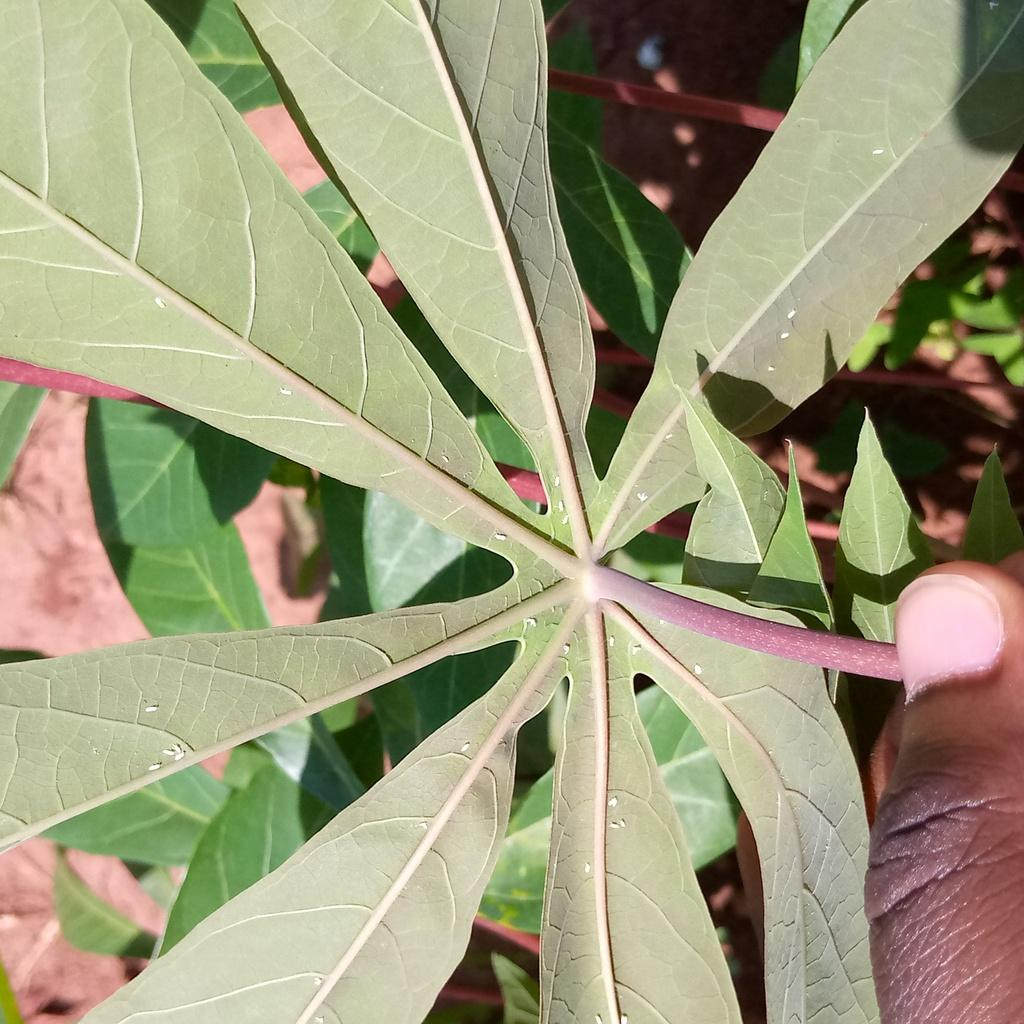adult: (154, 297, 166, 309), (144, 704, 159, 713), (494, 532, 507, 542), (460, 742, 471, 753), (525, 617, 536, 628), (148, 763, 162, 771), (607, 797, 618, 807), (631, 645, 642, 655), (693, 664, 703, 675), (556, 500, 565, 512), (175, 751, 185, 761), (313, 975, 322, 986), (417, 821, 428, 830), (637, 492, 648, 501), (162, 749, 176, 756), (280, 388, 292, 396), (787, 309, 796, 319), (561, 514, 569, 525), (608, 635, 615, 647), (584, 862, 591, 874), (441, 454, 450, 463), (780, 332, 790, 340), (562, 644, 570, 654), (171, 744, 181, 752), (554, 476, 561, 487), (872, 149, 884, 155), (594, 1015, 602, 1024), (314, 1016, 324, 1023), (621, 1014, 628, 1024), (664, 433, 673, 440), (766, 366, 775, 372), (620, 819, 626, 827), (610, 823, 619, 828)
